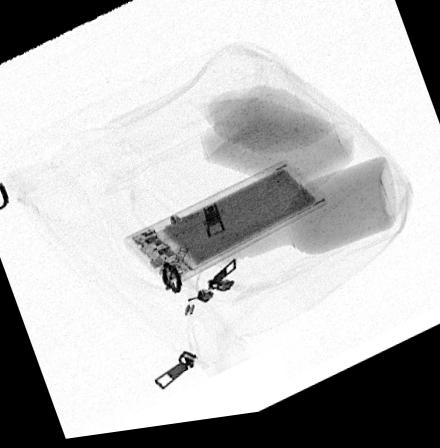Powerbank: (120, 166, 329, 297)
